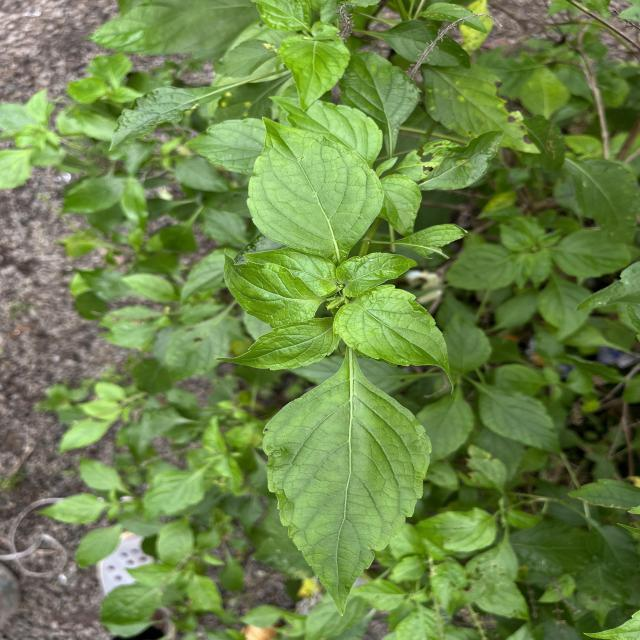Ocimum gratissimum: (258, 354, 434, 622), (242, 112, 391, 262), (329, 283, 457, 397), (100, 78, 262, 156), (216, 244, 332, 330), (272, 29, 354, 117), (212, 318, 334, 374)
